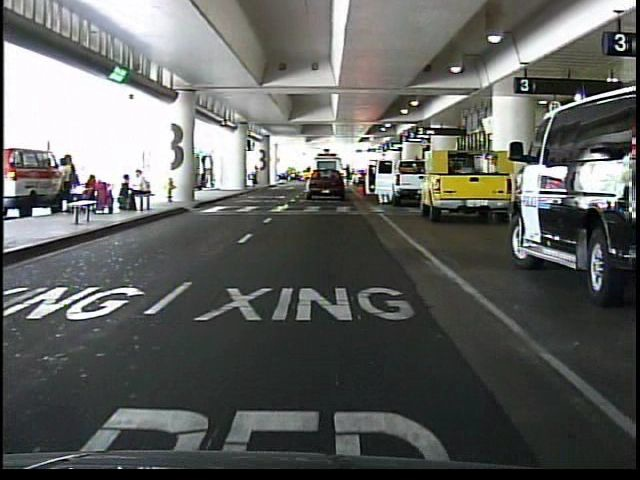person: (250, 166, 261, 191)
